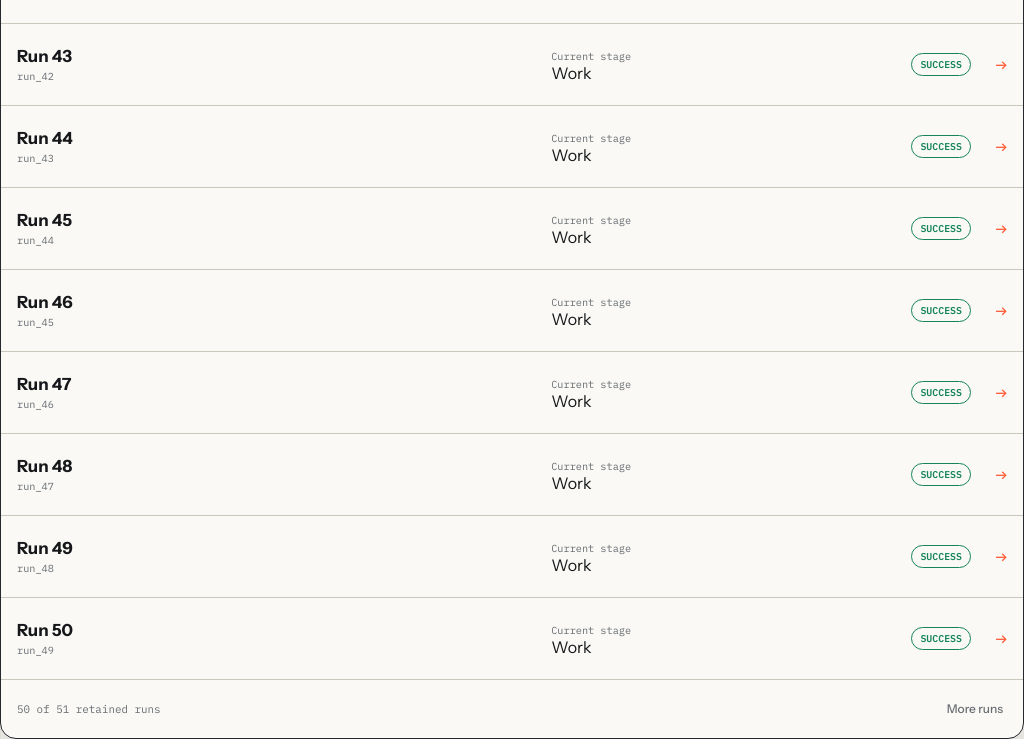
loads retained run pages to an exact complete-history state
(page scrolled)
Expected: the text "50 of 51 retained runs" is shown, [17,702,161,716]
Click the button "More runs": (975,709) [943,693,1007,725]
(page scrolled)
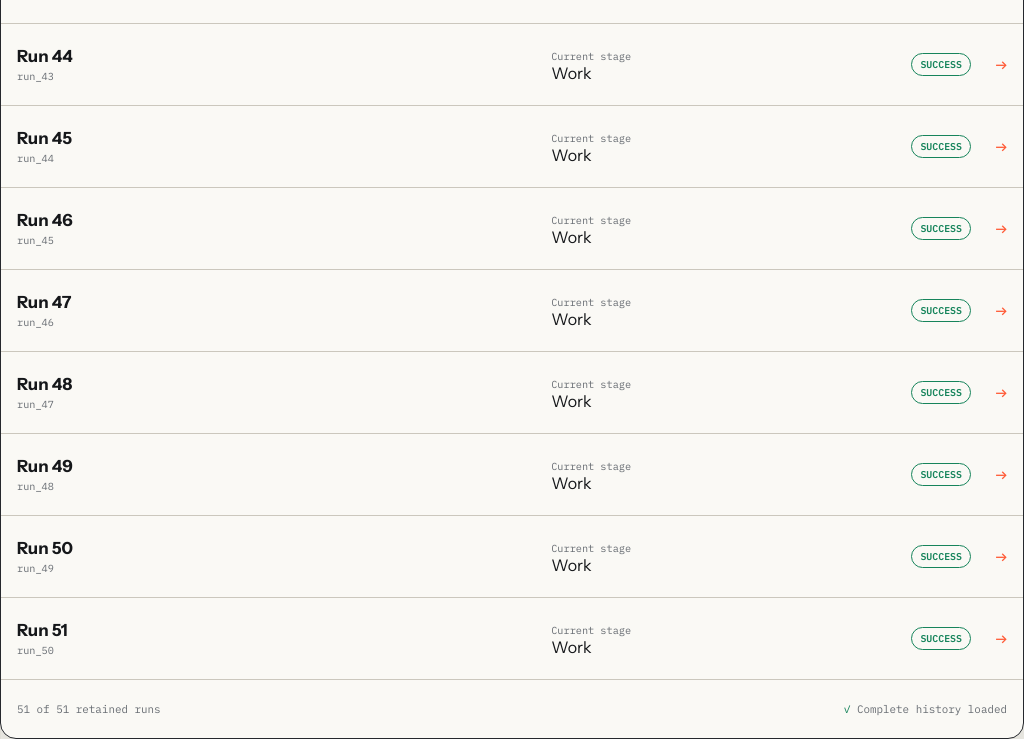
Expected: the text "51 of 51 retained runs" is shown, [17,702,161,716]
